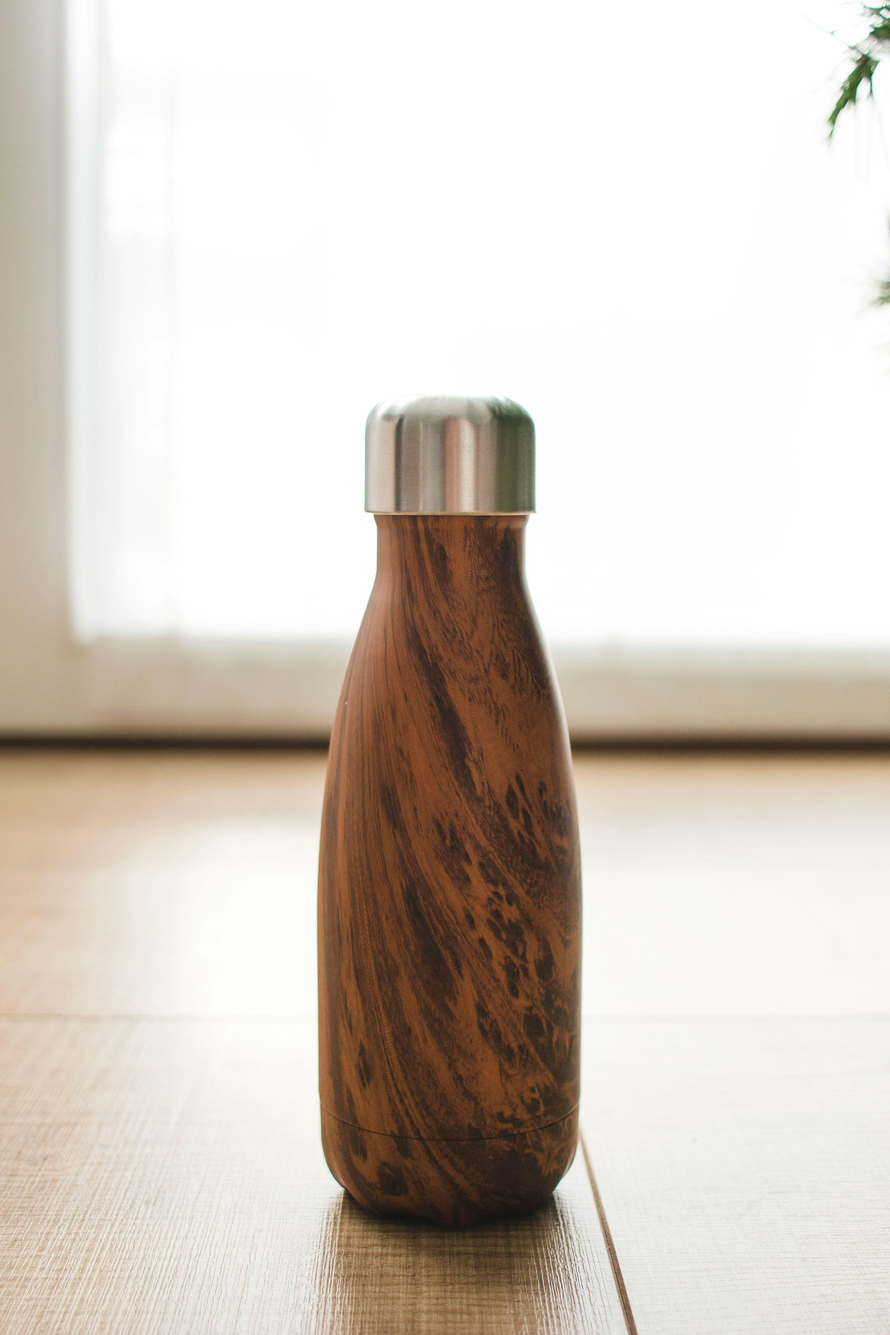Bottle-Detection: (255, 306, 662, 1283)
